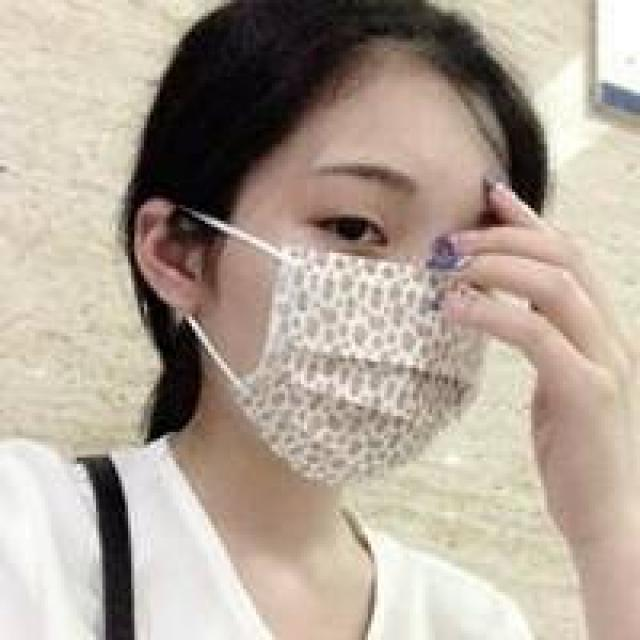mask: (236, 163, 494, 477)
